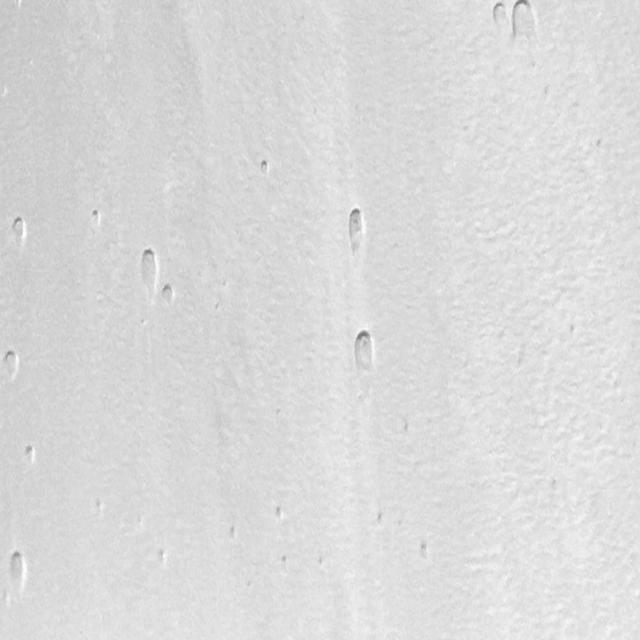pin holes: (342, 204, 372, 262), (509, 0, 545, 47), (352, 328, 383, 377), (4, 551, 33, 597), (135, 245, 162, 294), (9, 214, 32, 248), (0, 345, 21, 381), (488, 1, 508, 36), (416, 538, 434, 565), (158, 283, 176, 308), (256, 156, 274, 179), (22, 442, 39, 466), (88, 207, 104, 232), (156, 548, 169, 568), (272, 504, 286, 522), (314, 553, 328, 571), (227, 524, 240, 542), (568, 322, 581, 340), (375, 510, 387, 528), (93, 499, 105, 517), (401, 418, 412, 437), (278, 554, 291, 570), (11, 0, 26, 10), (244, 579, 254, 591)
